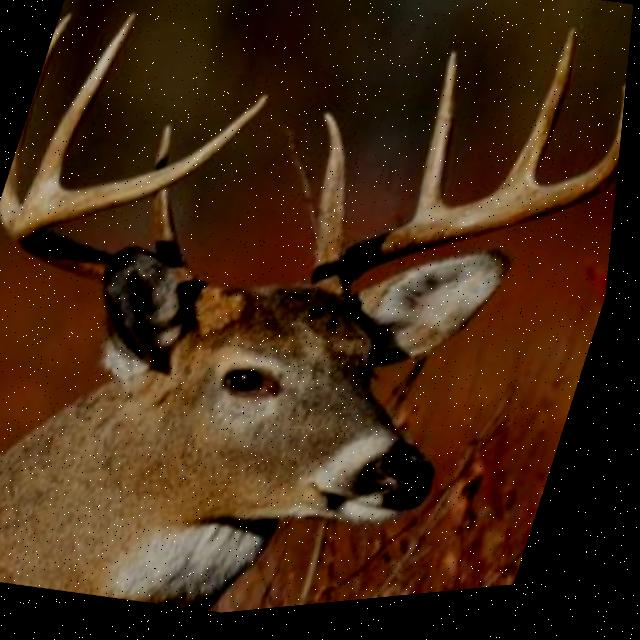R-G1: (318, 118, 351, 273)
R-G2: (420, 58, 459, 222)
R-G3: (502, 40, 579, 200)
